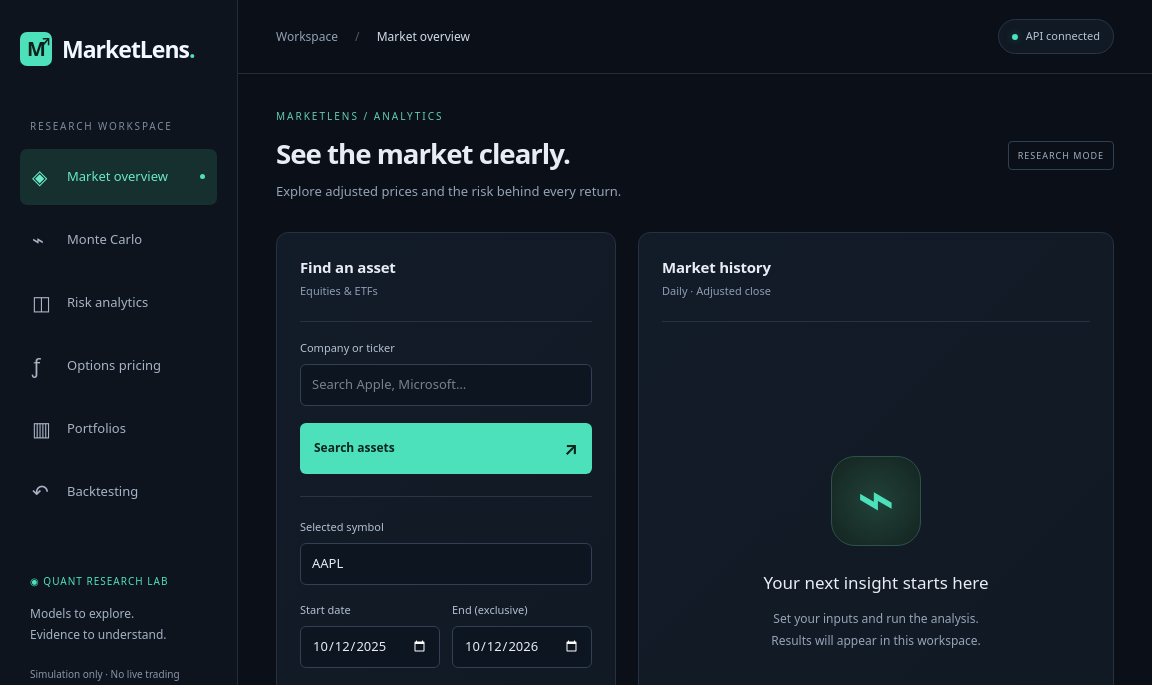
Test case: prices options and scales Greek units for display
The image size is (1152, 685).
Click the button "ƒ Options pricing". click: (118, 366)
box: x1=20 y1=338 x2=217 y2=394
(page scrolled)
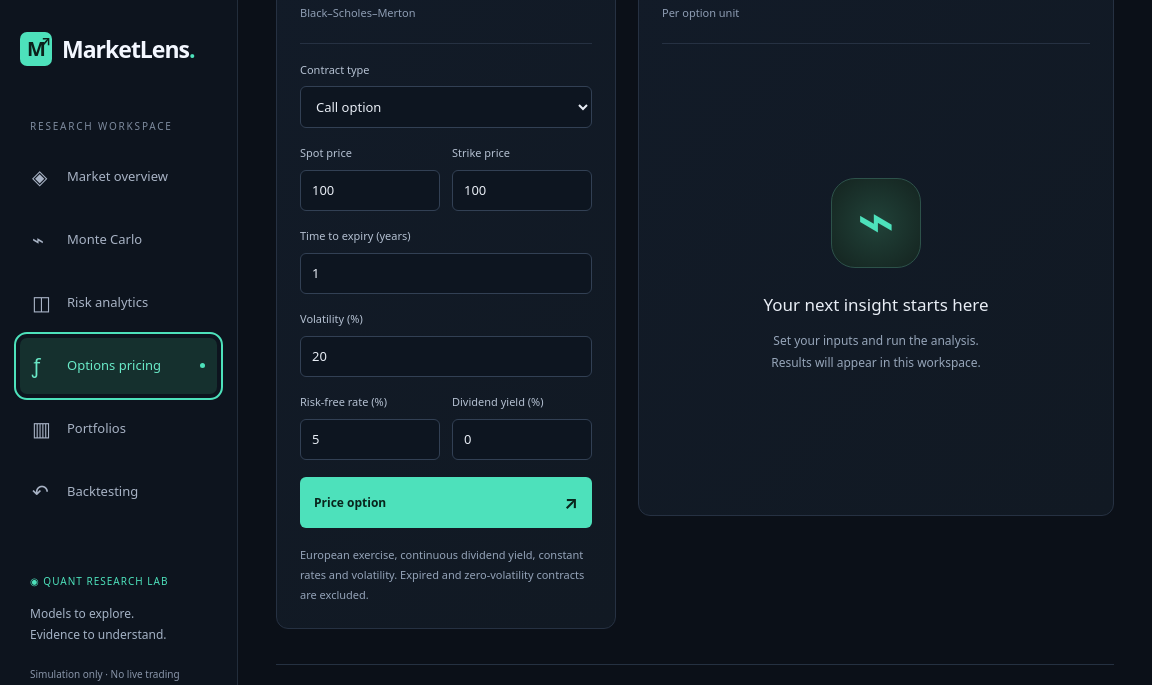
Click the button "Price option ↗". click: (350, 502)
box: x1=300 y1=477 x2=592 y2=528
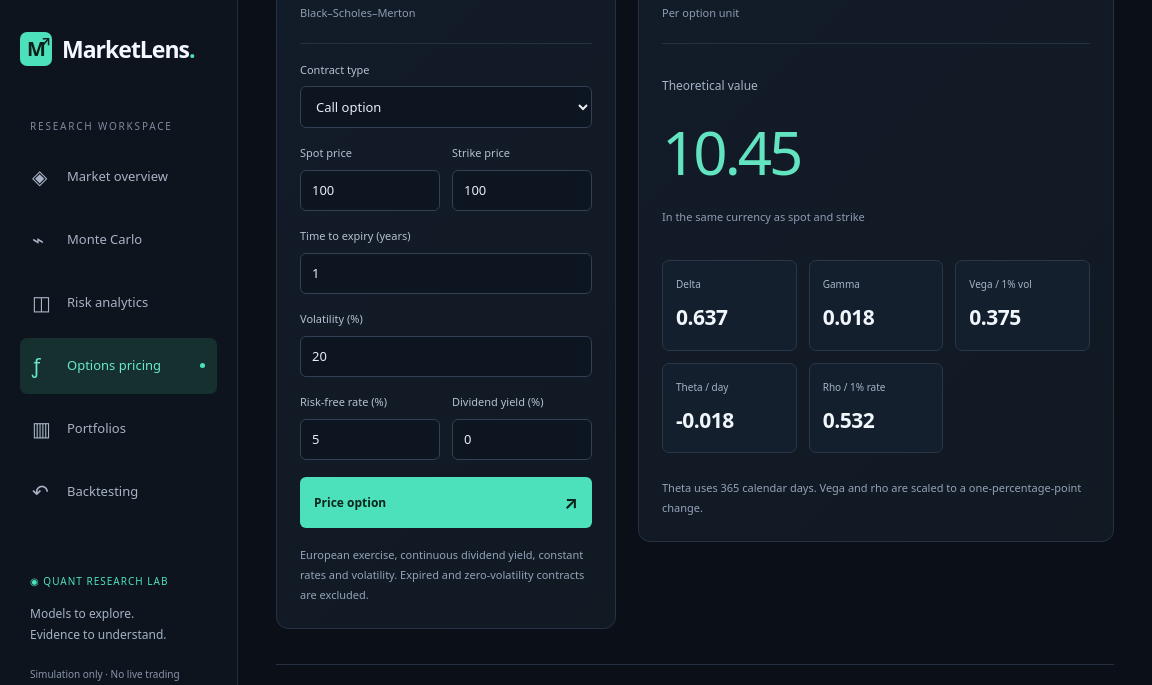
Check: the text "10.45" is shown, box x1=662 y1=111 x2=800 y2=193
Check: the text "0.375" is shown, box x1=969 y1=303 x2=1021 y2=331
Clear the number field labelled "Spot price". click: (370, 190)
box: x1=300 y1=170 x2=440 y2=211
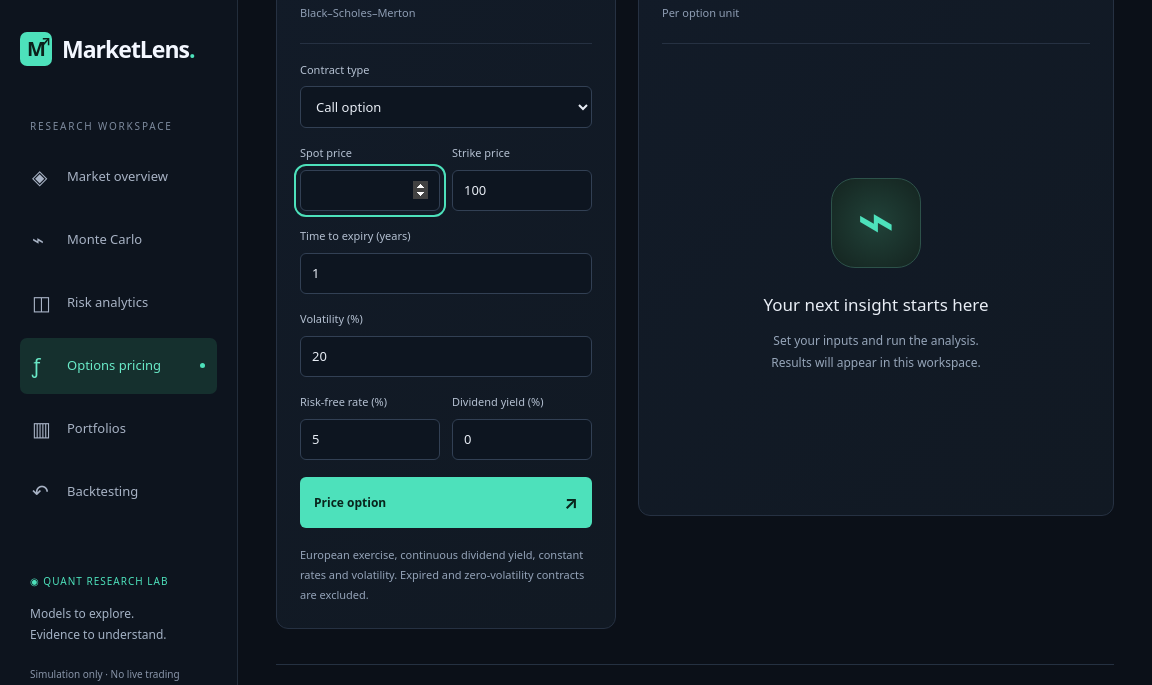
Check: the text "10.45" is gone
